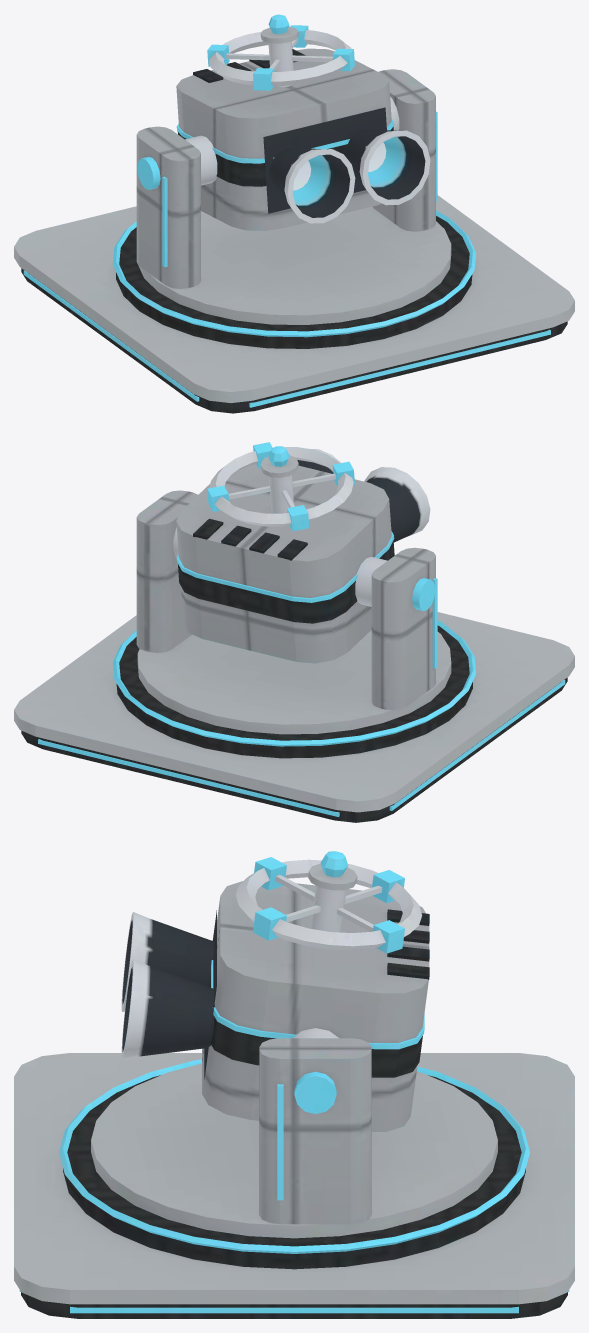
The model's file is enterprise_sublight_thruster.glb.
3 views of the same model, one above another, from view 1: azimuth 30°, elevation 25°; view 2: azimuth 150°, elevation 25°; view 3: azimuth 270°, elevation 25° (orthographic). The views are drawn at different scales.
Parts seen in each view (by area): view 1: te_enterprise_sublight_thruster, move_rotor; view 2: te_enterprise_sublight_thruster, move_rotor; view 3: te_enterprise_sublight_thruster, move_rotor.
Boxes of the visible parts, left/top/right/bottom form: te_enterprise_sublight_thruster: left=14, top=14, right=574, bottom=413; move_rotor: left=207, top=25, right=354, bottom=90; te_enterprise_sublight_thruster: left=14, top=446, right=574, bottom=822; move_rotor: left=207, top=442, right=354, bottom=531; te_enterprise_sublight_thruster: left=14, top=851, right=574, bottom=1318; move_rotor: left=235, top=857, right=422, bottom=953.
Size of the model in its own units: 0.8 by 0.5532 by 0.8.
Materials: 1 (1 with a texture image).
